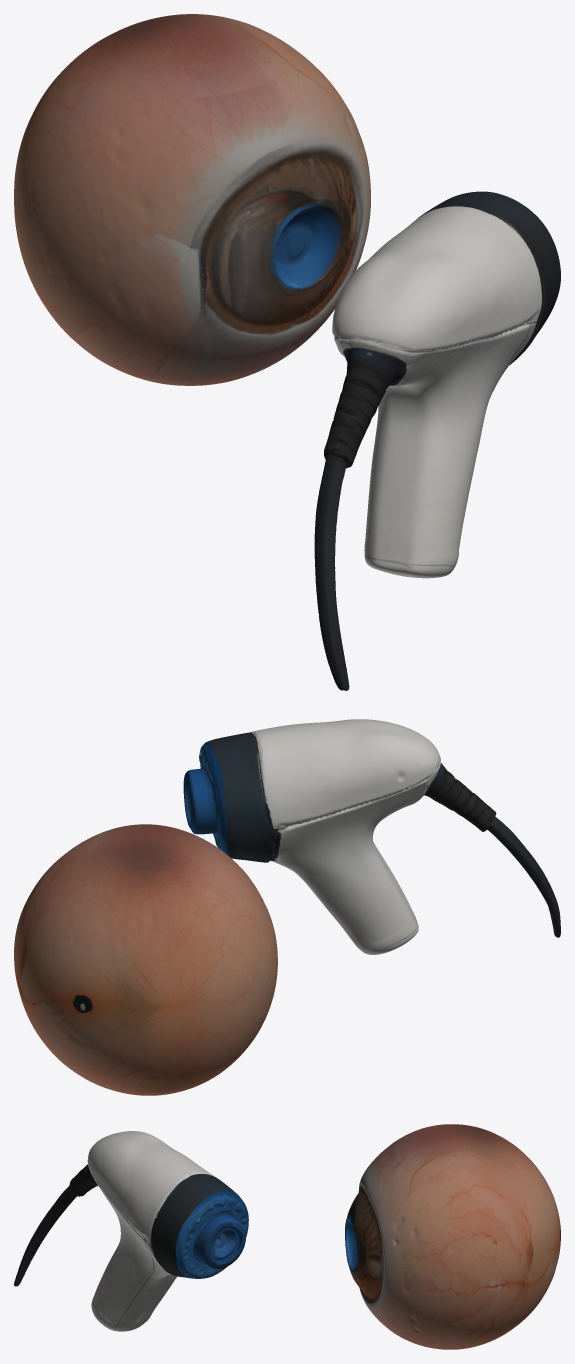
File: Ojo + Scanner.fbx
3 views of the same model, one above another, from view 1: azimuth 30°, elevation 25°; view 2: azimuth 150°, elevation 25°; view 3: azimuth 270°, elevation 25° (orthographic). The views are drawn at different scales.
Visible parts, largest first — view 1: Ojo, Scanner; view 2: Ojo, Scanner; view 3: Ojo, Scanner.
Part boxes in pixels (left/top/right/bottom): Ojo: left=14, top=14, right=370, bottom=385; Scanner: left=314, top=191, right=560, bottom=690; Ojo: left=14, top=824, right=277, bottom=1095; Scanner: left=183, top=719, right=560, bottom=954; Ojo: left=345, top=1124, right=560, bottom=1349; Scanner: left=14, top=1131, right=248, bottom=1331.
Size of the model in its own units: 47.88 by 42.99 by 100.
